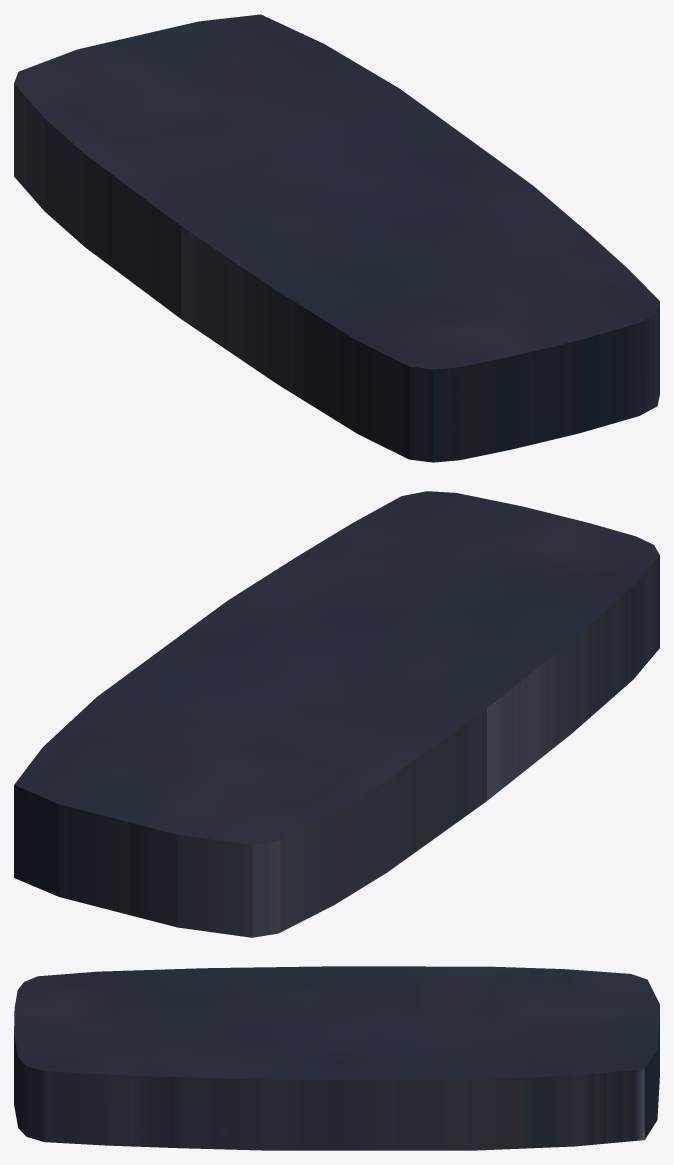
File: nx_nokia.glb
The picture shows the model from 3 angles, top to bottom: view 1: azimuth 30°, elevation 25°; view 2: azimuth 150°, elevation 25°; view 3: azimuth 270°, elevation 25°; orthographic projection. The views are drawn at different scales.
Visible parts, largest first — view 1: Plane.009; view 2: Plane.009; view 3: Plane.009.
Part boxes in pixels (<box>): Plane.009: <box>14,14,659,462</box>; Plane.009: <box>14,491,659,937</box>; Plane.009: <box>14,966,659,1150</box>.
Size of the model in its own units: 0.0479 by 0.0139 by 0.115.
1 material, 1 textured.
